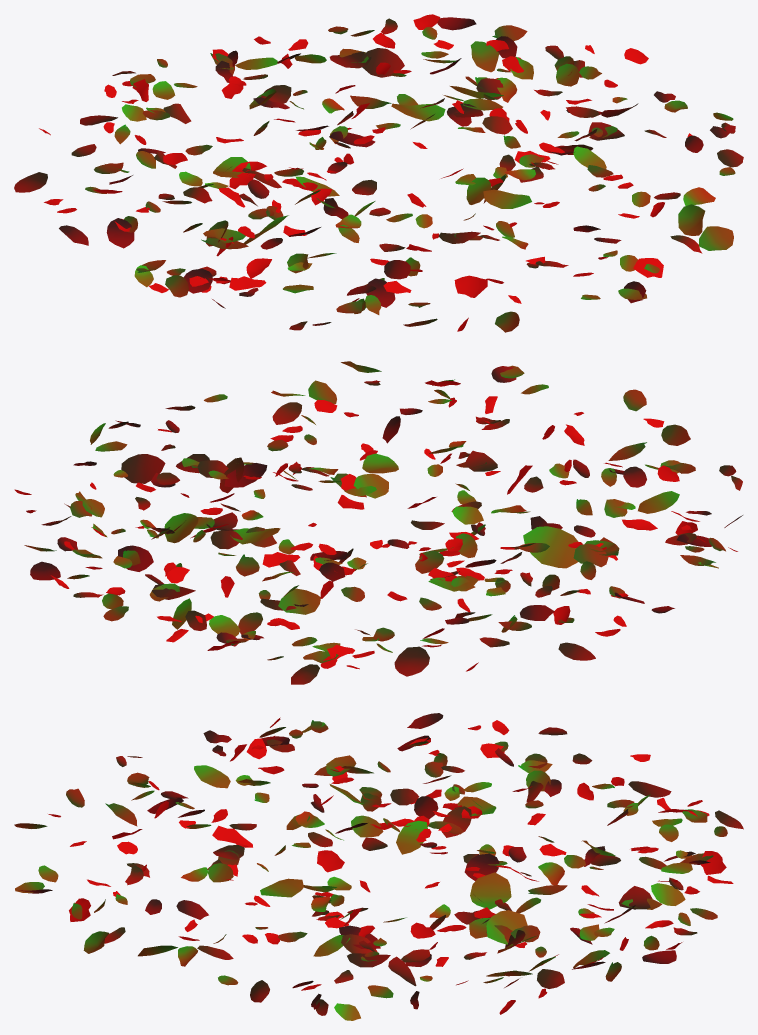
Rendered from Var1_LOD0.fbx.
3 renders of one model, top to bottom at view 1: azimuth 30°, elevation 25°; view 2: azimuth 150°, elevation 25°; view 3: azimuth 270°, elevation 25°, orthographic. The views are drawn at different scales.
Parts seen in each view (by area): view 1: _db82_Var1_LOD0; view 2: _db82_Var1_LOD0; view 3: _db82_Var1_LOD0.
Part boxes in pixels (box(x1,y1,x2,y2)): _db82_Var1_LOD0: box(14, 14, 743, 332); _db82_Var1_LOD0: box(14, 361, 742, 684); _db82_Var1_LOD0: box(14, 713, 743, 1020).
Size of the model in its own units: 165 by 8.41 by 171.
